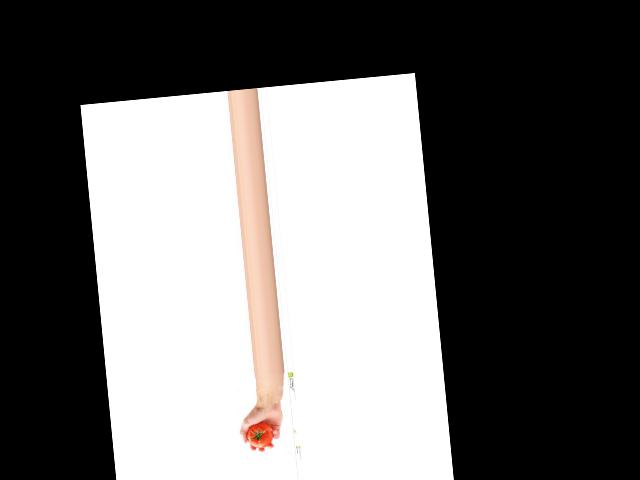tomato: (246, 421, 274, 449)
